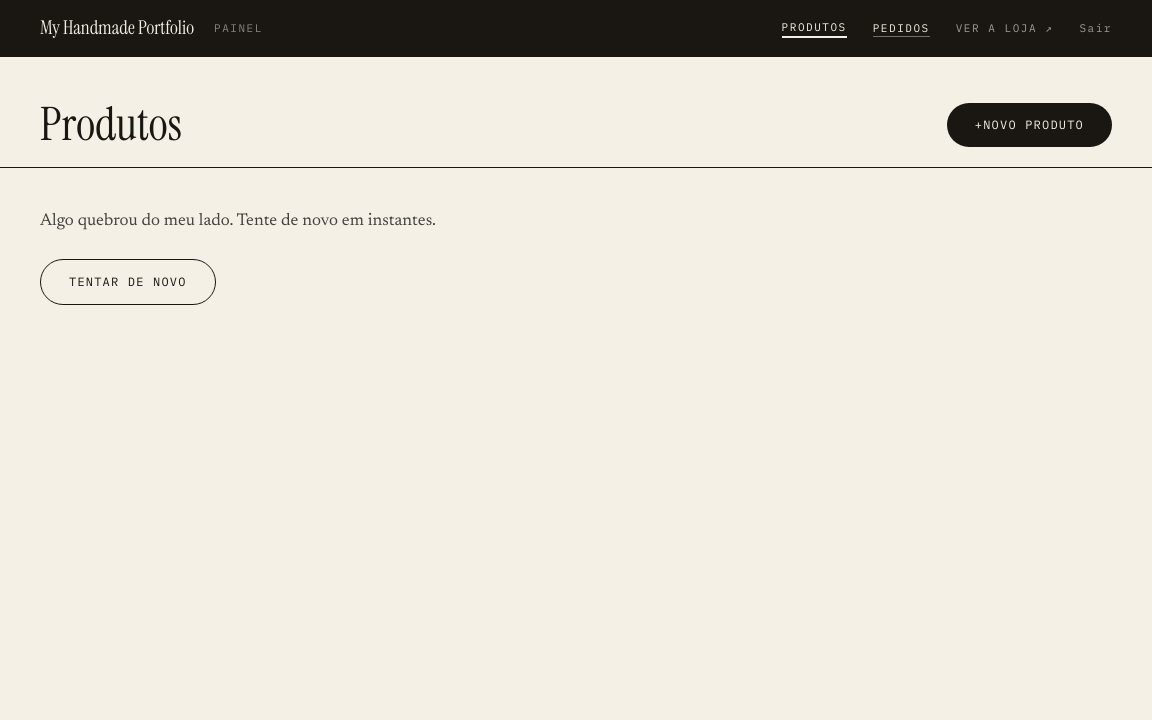
Scenario: ProductsRoute › separates a panel that is down from a catalogue that is empty, and asks again on demand
Check: the message shows "Algo quebrou do meu lado", box [40,213,436,230]
Click the button "Tentar de novo". click: (128, 282)
box: [40,259,216,305]
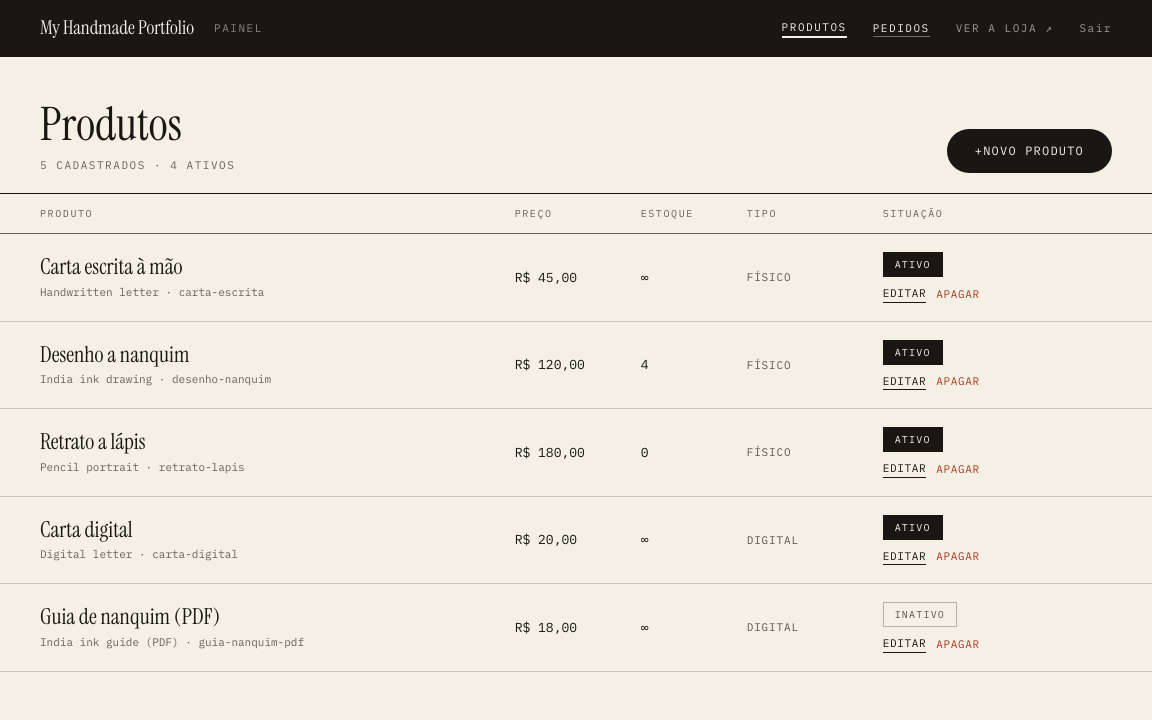
Check: the column heading "Carta escrita à mão Handwritten letter · carta-escrita" is shown, box [40,254,499,300]
